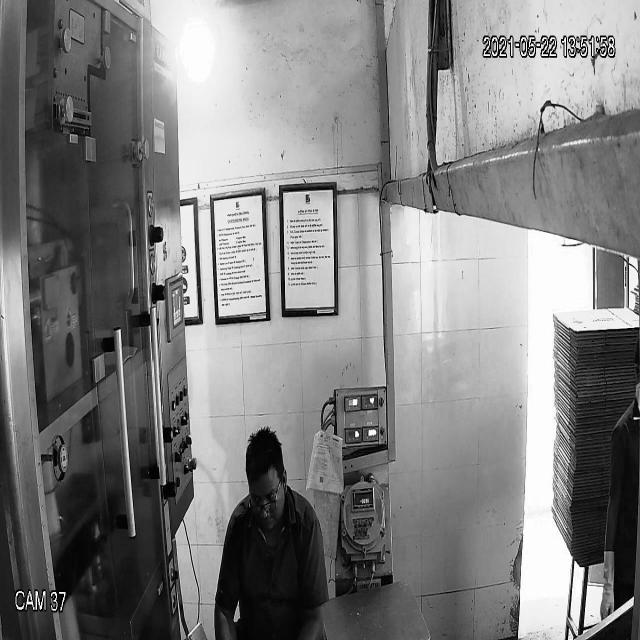glasses: (245, 478, 281, 521)
